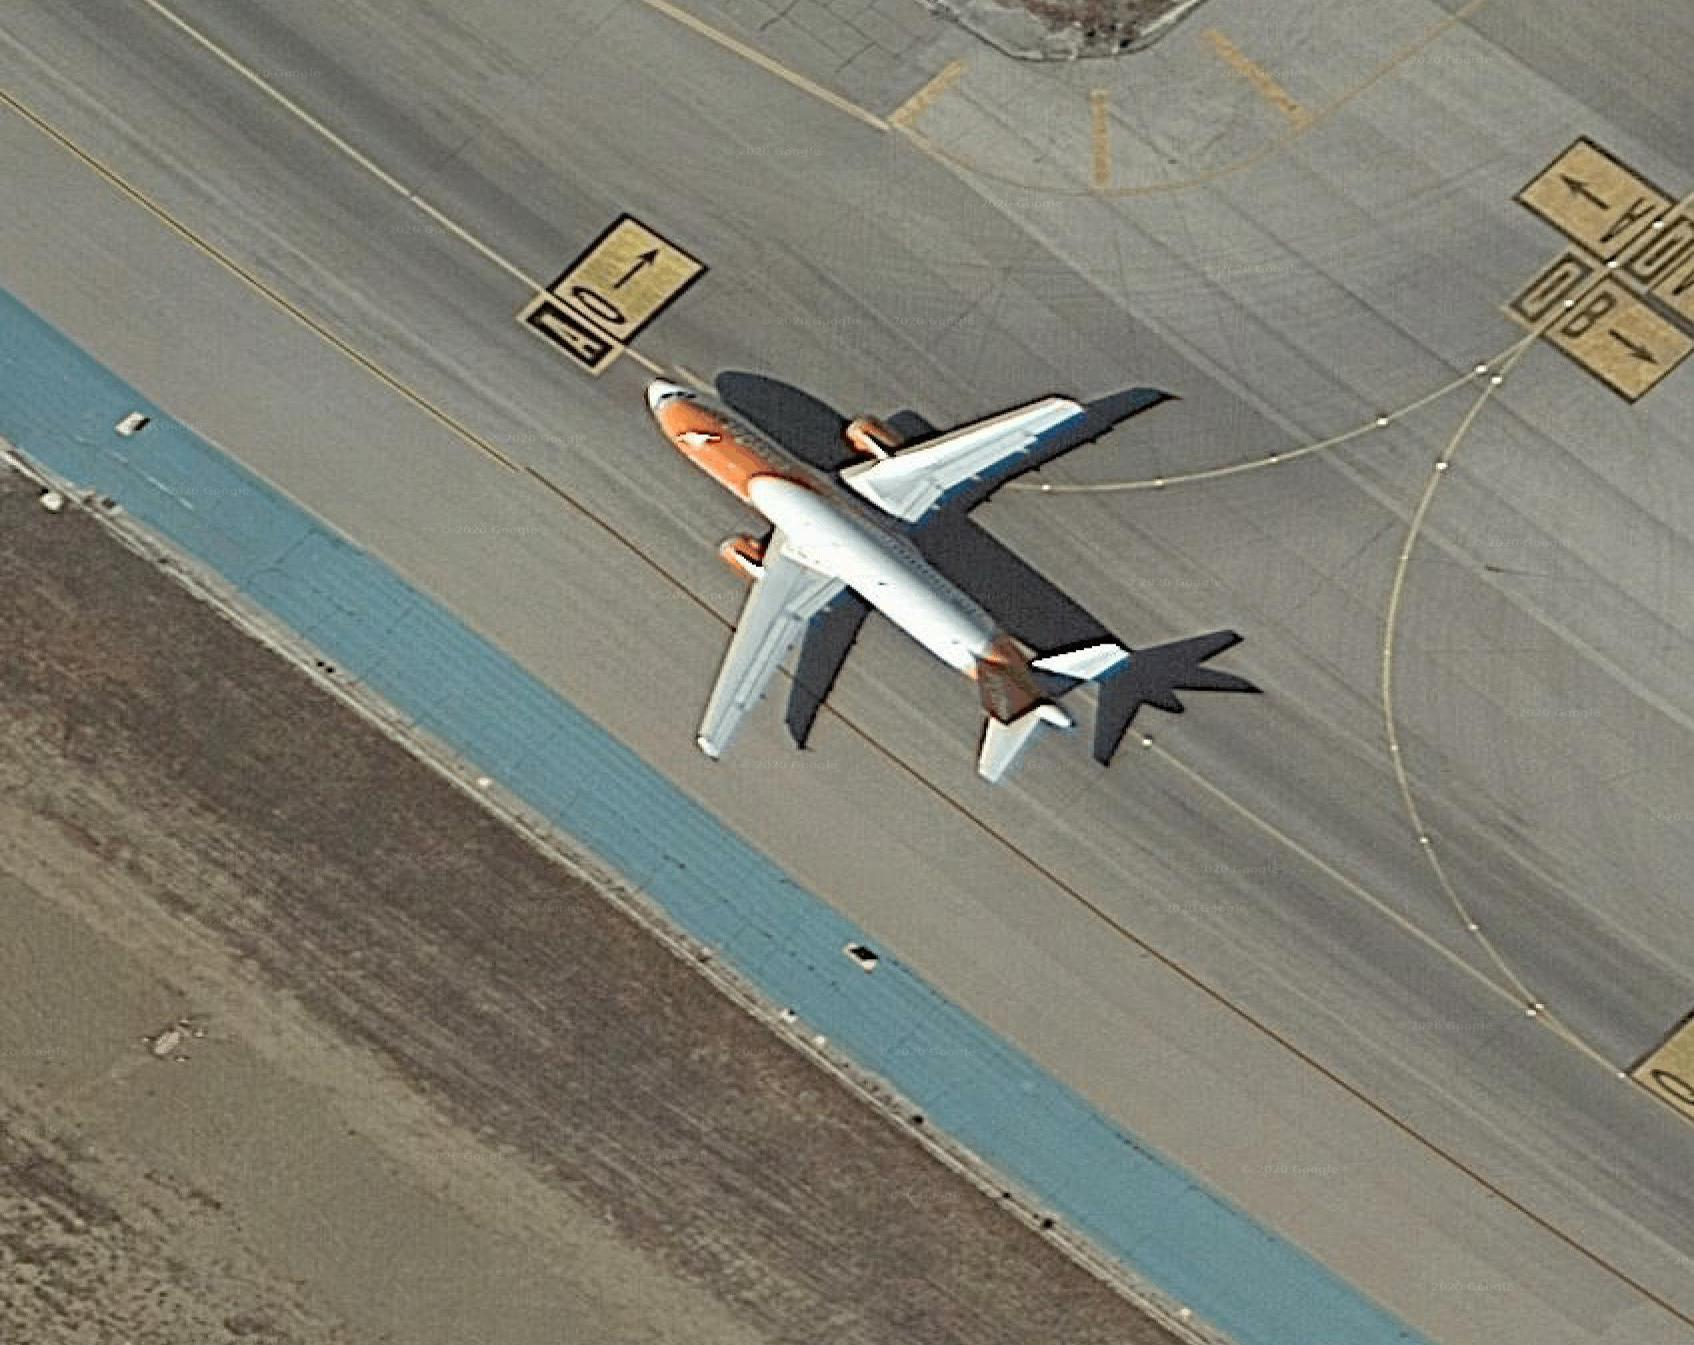plane: (577, 305, 1154, 844)
